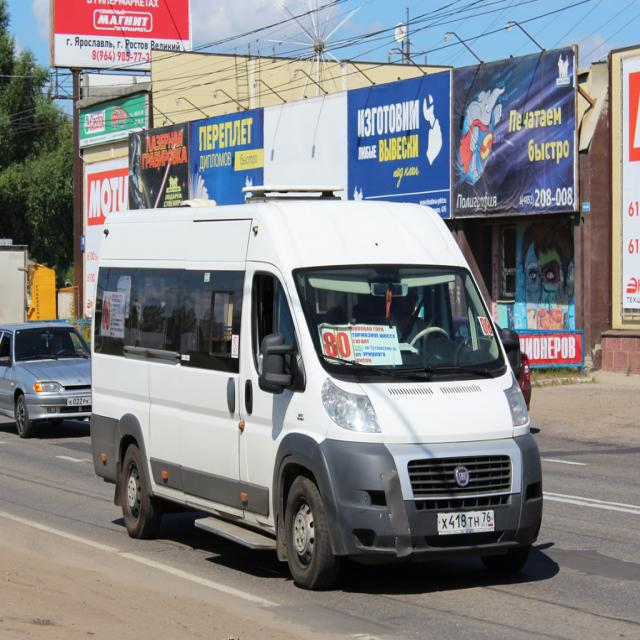number-of-bus: (323, 330, 353, 361)
